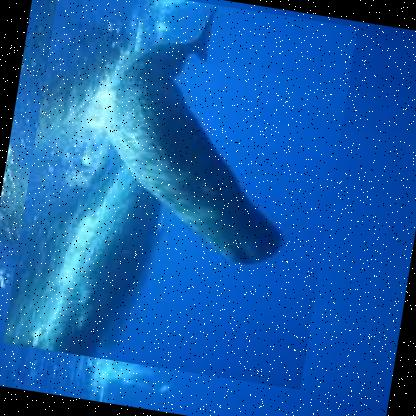blue_whale: (1, 0, 358, 391)
